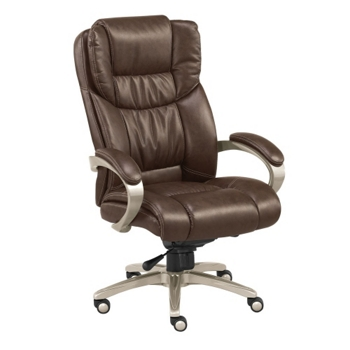chairs: (72, 15, 286, 331)
